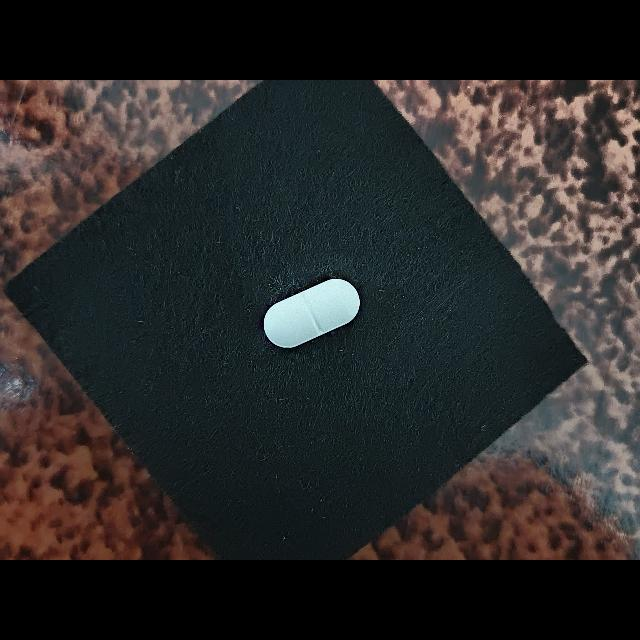Intact Pill: (263, 279, 360, 348)
